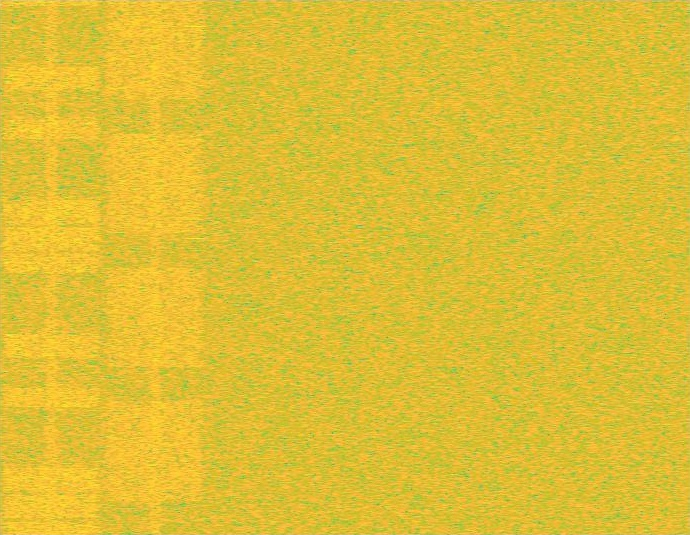5G: (104, 0, 207, 534)
DSSS: (45, 0, 59, 534), (148, 0, 162, 534)
LTE: (0, 0, 104, 534)
Radar: (189, 0, 203, 534)
